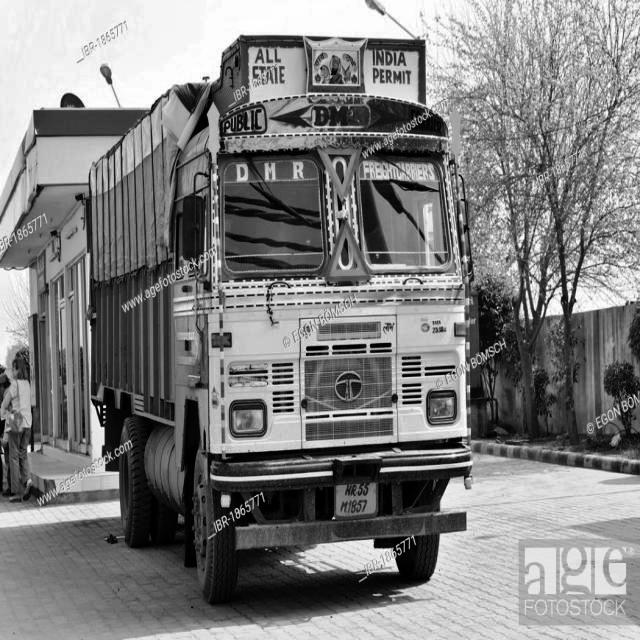HCV: (61, 23, 519, 617)
